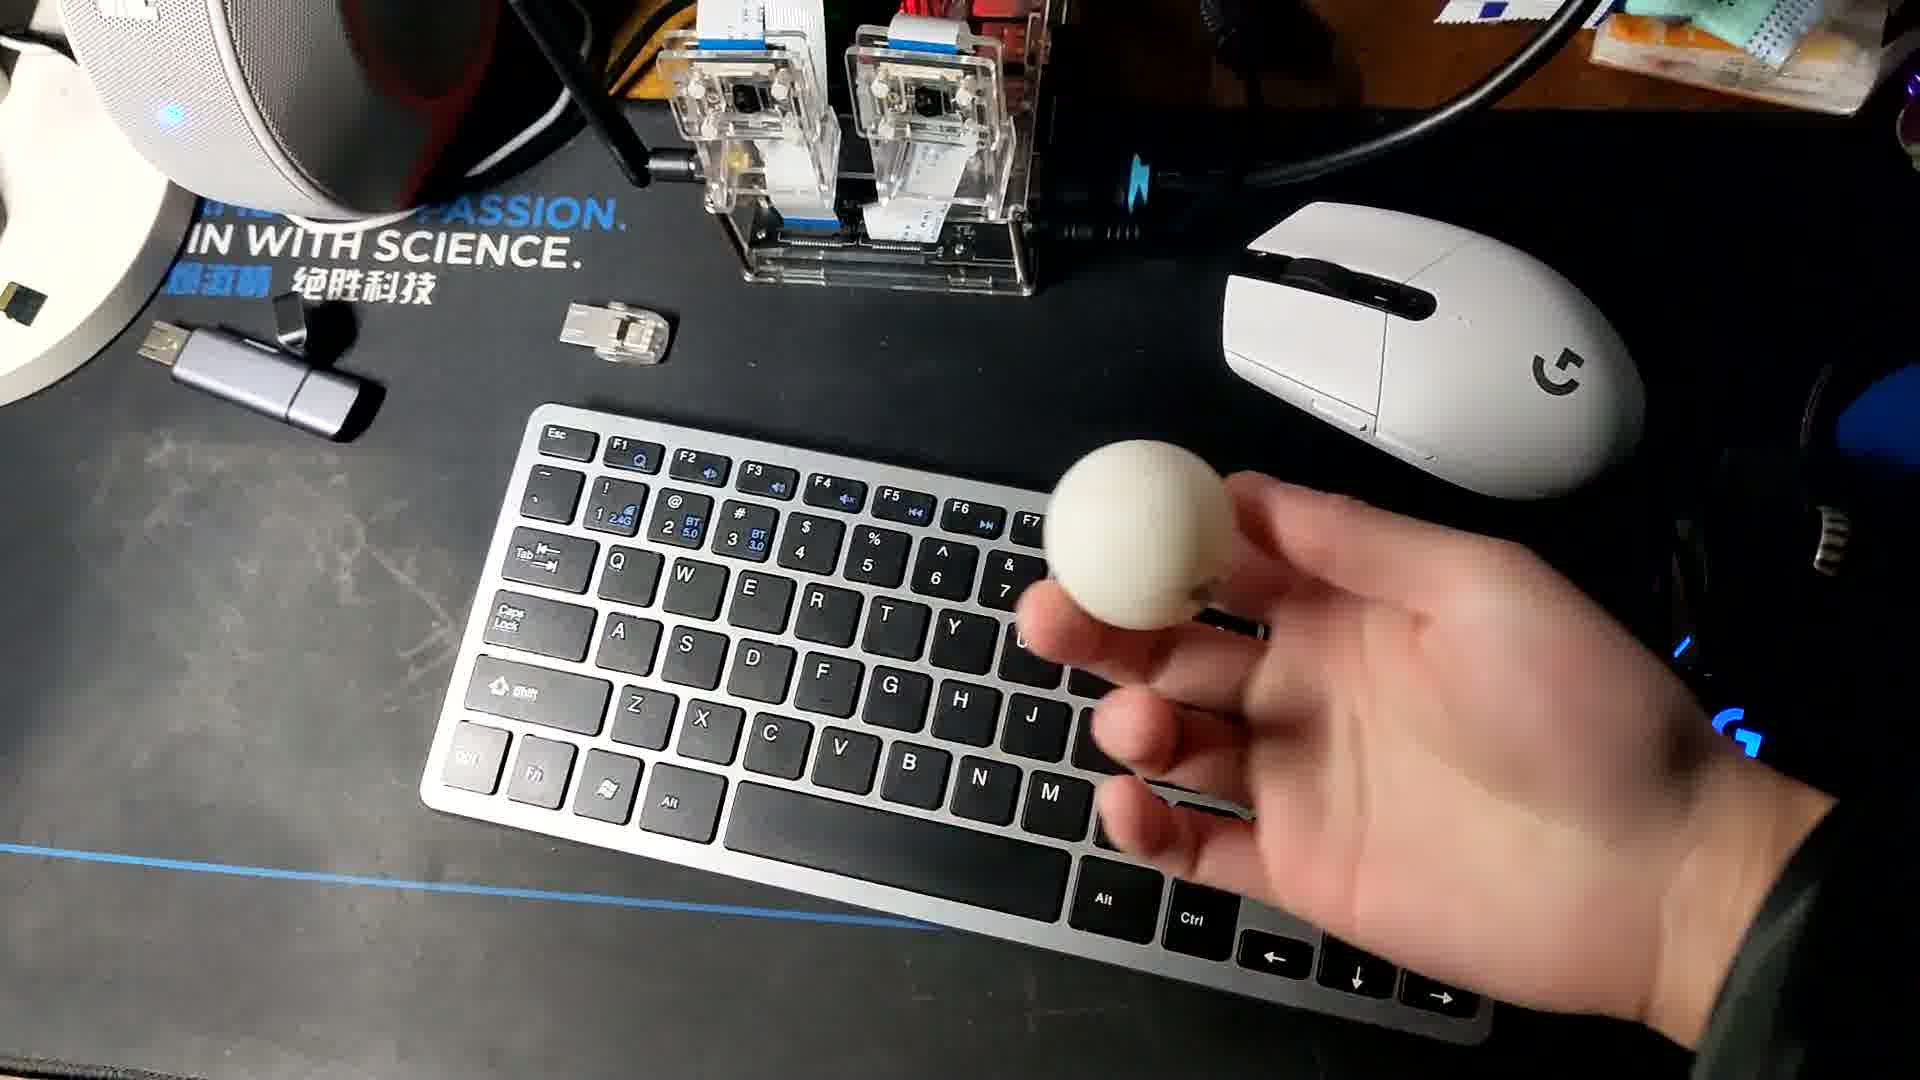Ball: (1048, 435, 1240, 636)
